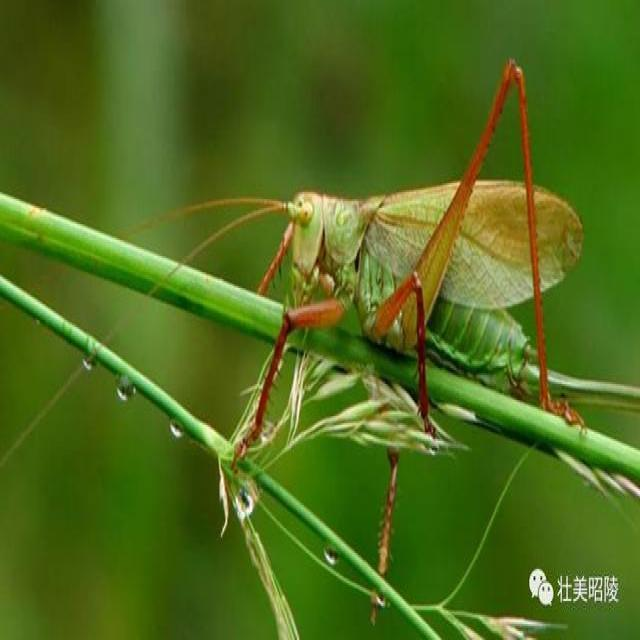ZhaMeng: (247, 61, 594, 412)
